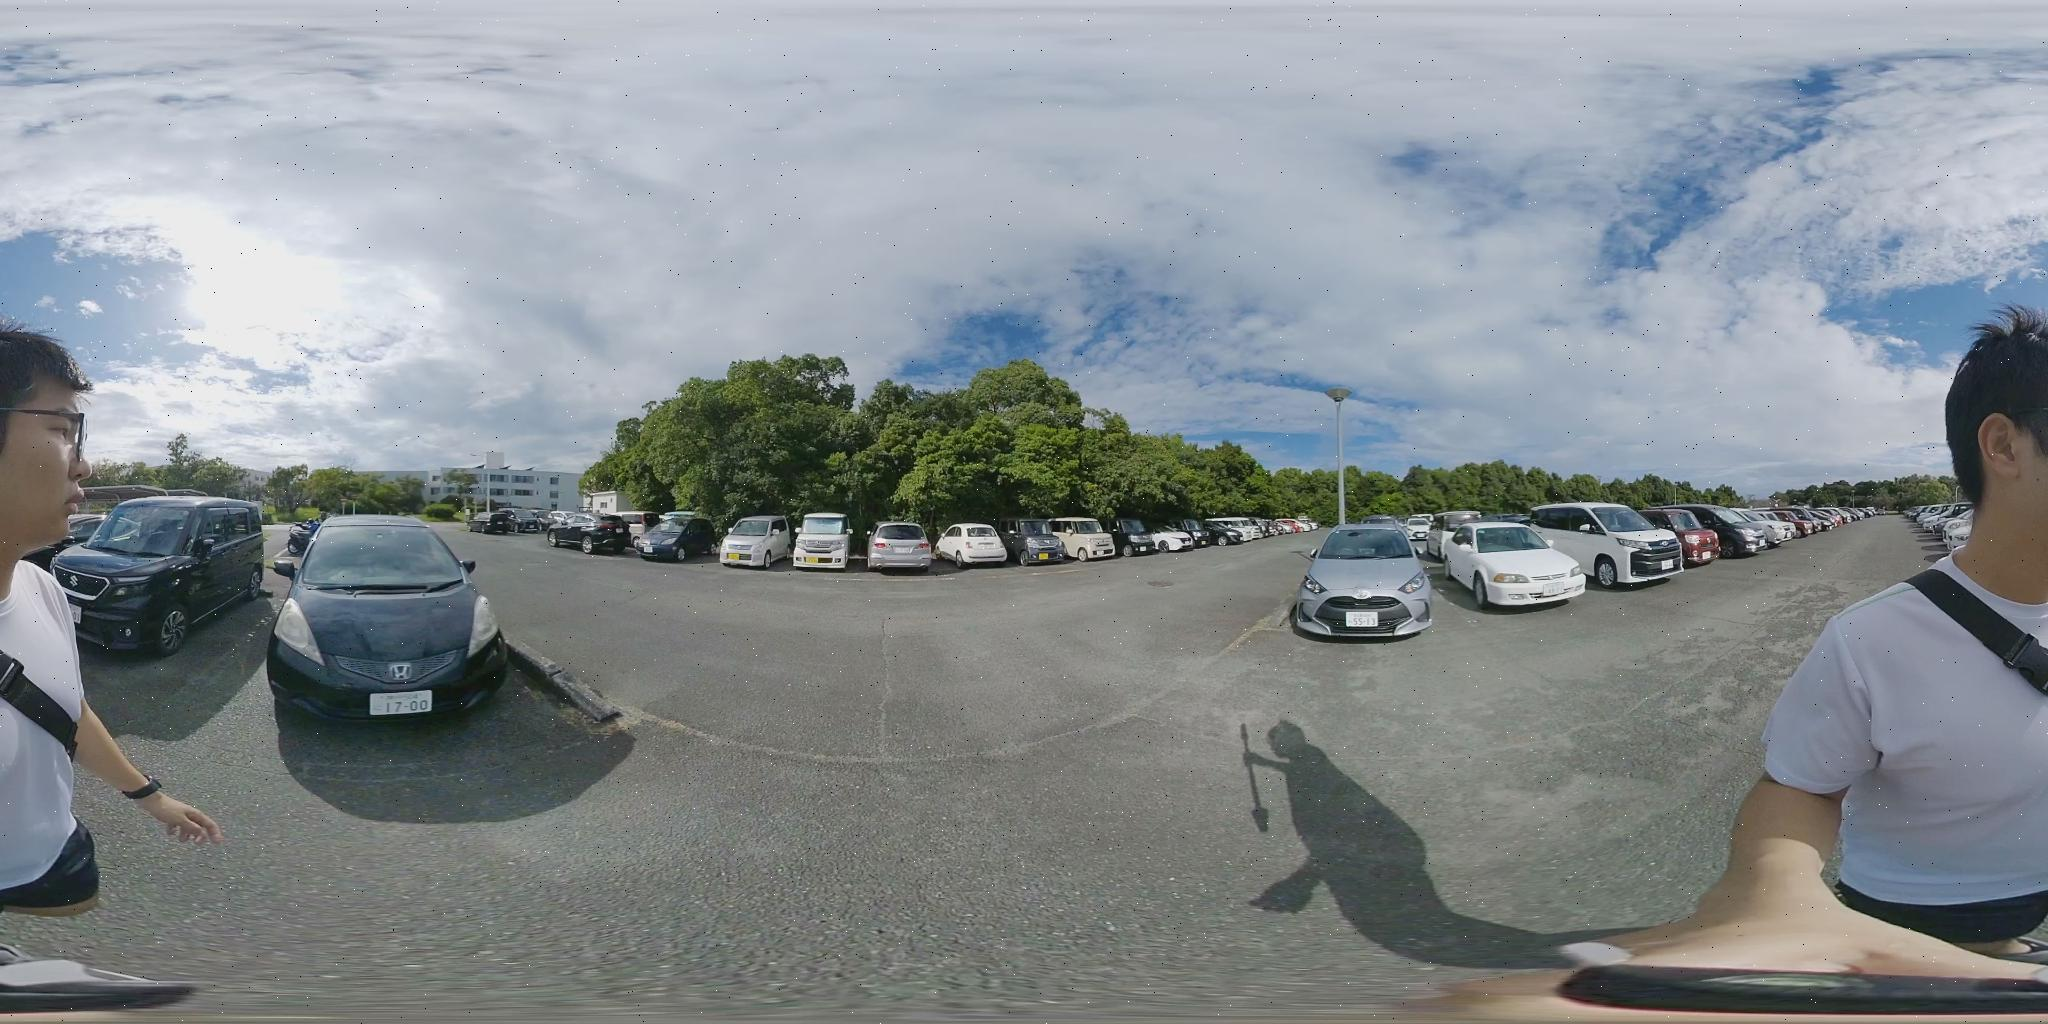car: (274, 515, 496, 717), (34, 496, 277, 662), (1520, 505, 1688, 589), (1433, 521, 1587, 607), (1637, 508, 1757, 560), (633, 516, 724, 563), (718, 512, 788, 566), (798, 513, 854, 579), (871, 520, 936, 572), (938, 519, 998, 571), (1724, 513, 1792, 552), (1055, 516, 1113, 562), (1003, 520, 1055, 568), (485, 507, 555, 532), (482, 512, 521, 534)
